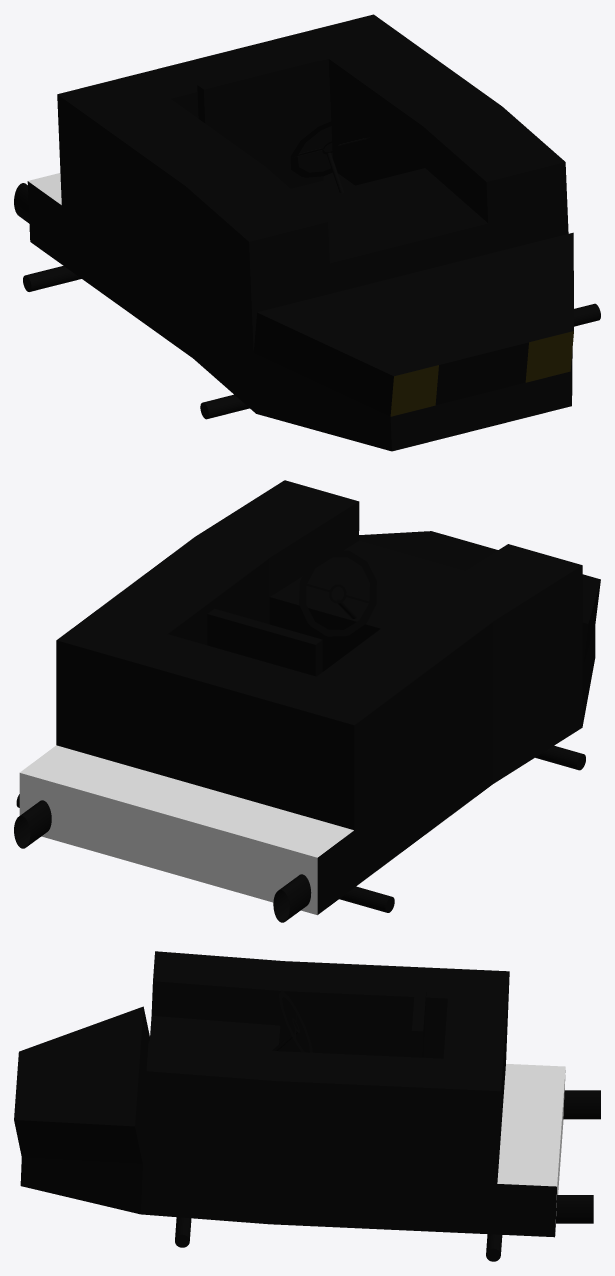
File: KarttesteTiago.fbx
The picture shows the model from 3 angles, top to bottom: view 1: azimuth 30°, elevation 25°; view 2: azimuth 150°, elevation 25°; view 3: azimuth 270°, elevation 25°; orthographic projection. The views are drawn at different scales.
Parts seen in each view (by area): view 1: Cylinder.003; view 2: Cylinder.003; view 3: Cylinder.003.
Boxes of the visible parts, <box> form: Cylinder.003: <box>14,14,600,451</box>; Cylinder.003: <box>14,480,600,922</box>; Cylinder.003: <box>14,951,600,1261</box>.
Bounding box in the file's own units: 655 × 362 × 1011.
